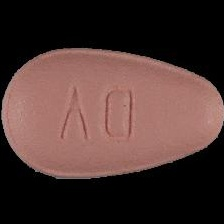55289-825: (0, 0, 224, 224)
